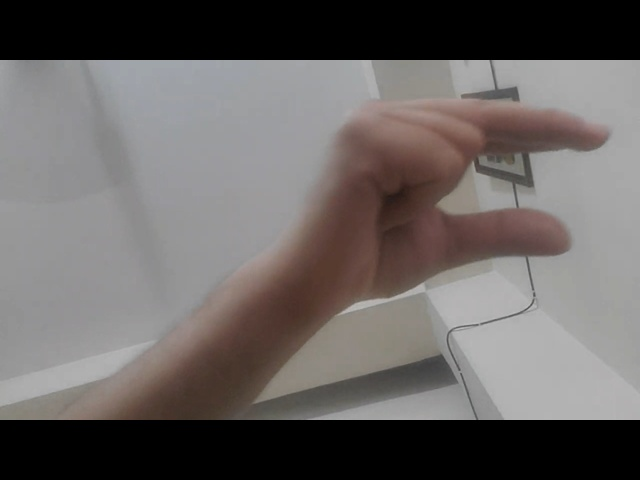No: (246, 79, 626, 314)
